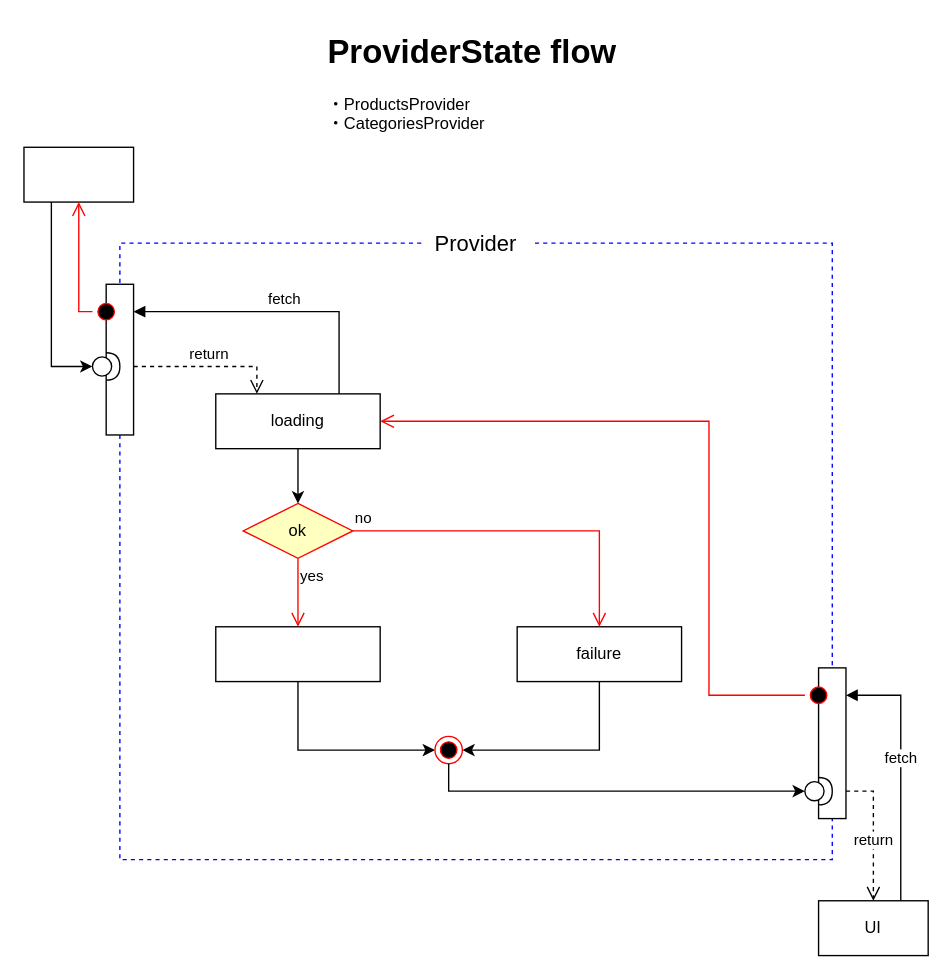
This 952x980 diagram has some shape labels left out. Each missing label, with the box of its shape:
BE: (23, 146, 134, 202)
success: (214, 625, 380, 682)
